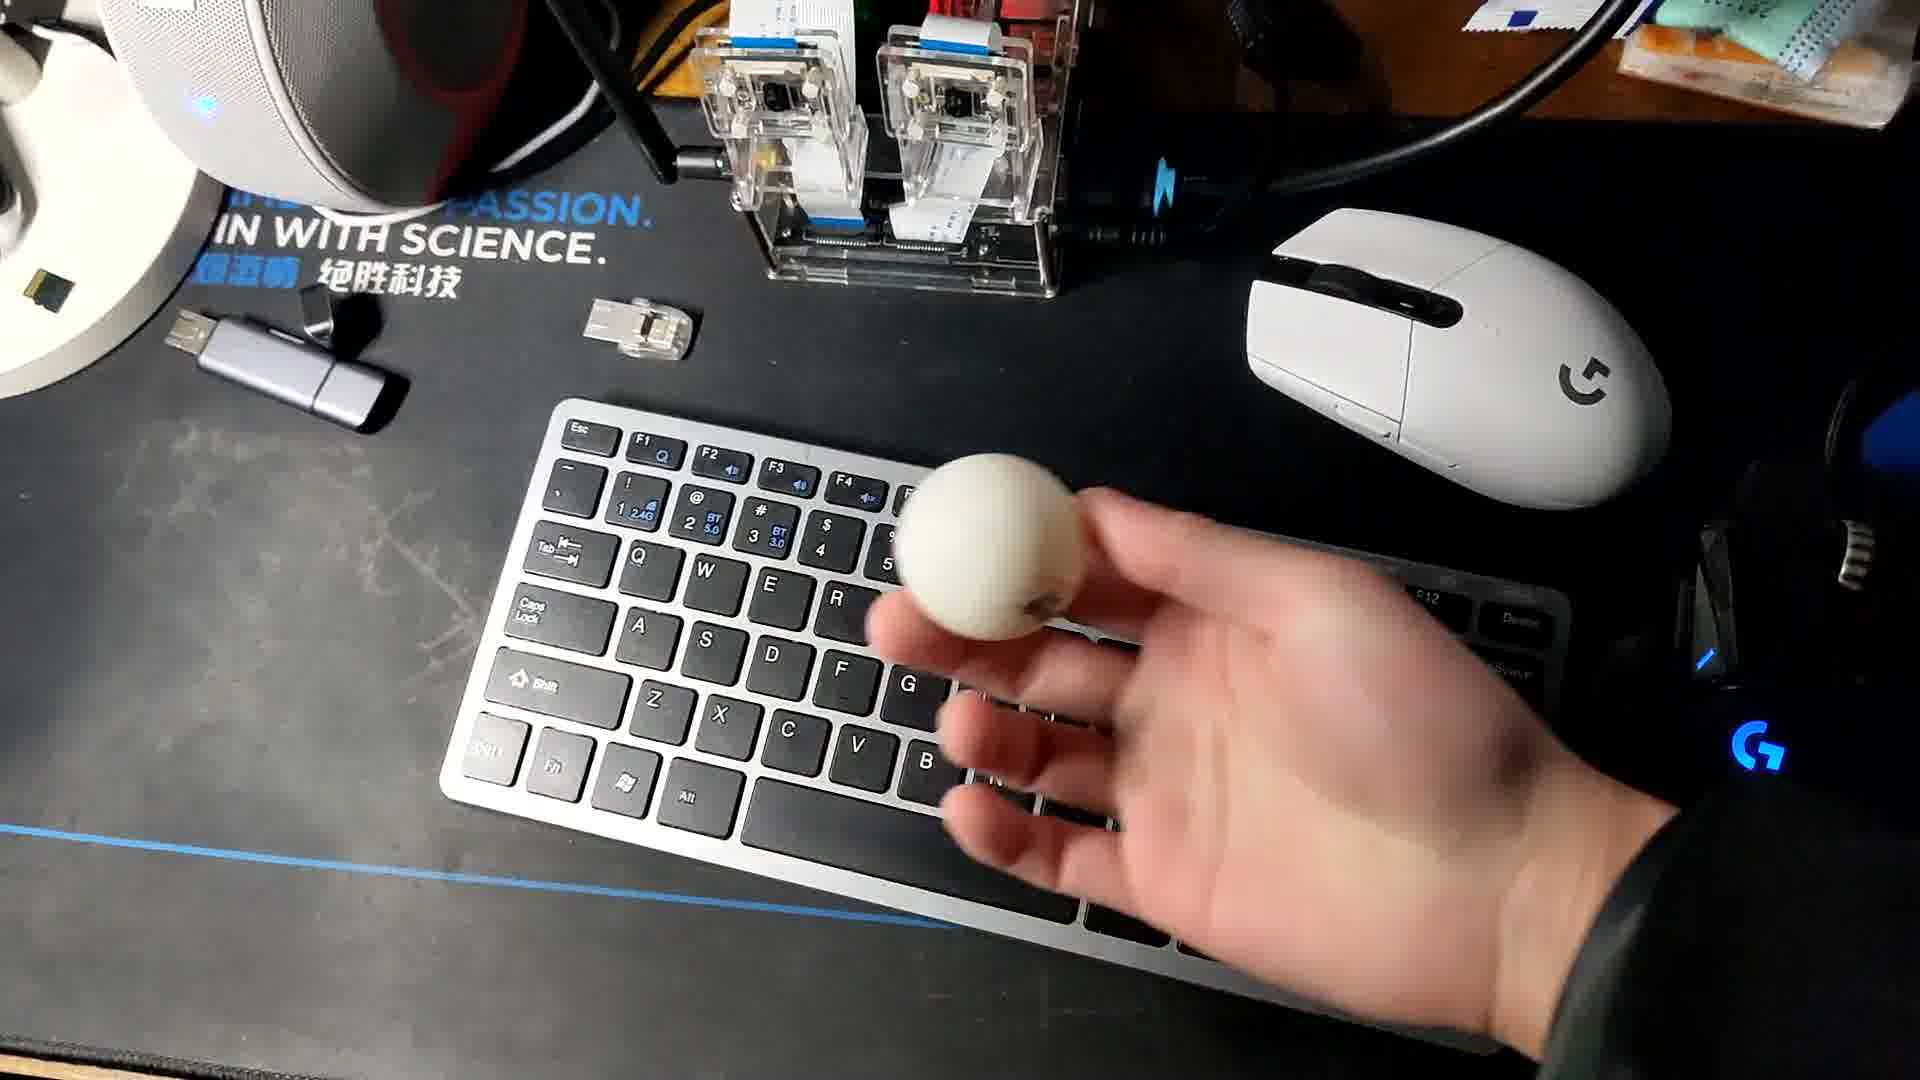Ball: (897, 447, 1085, 636)
